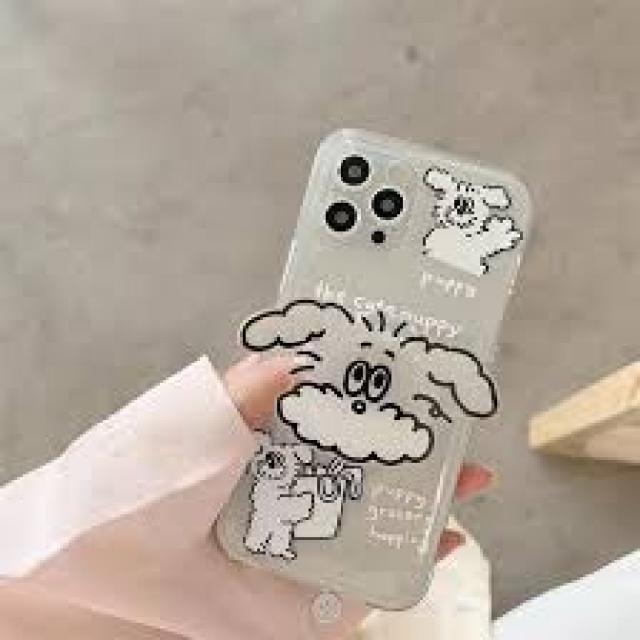phone: (222, 126, 508, 608)
